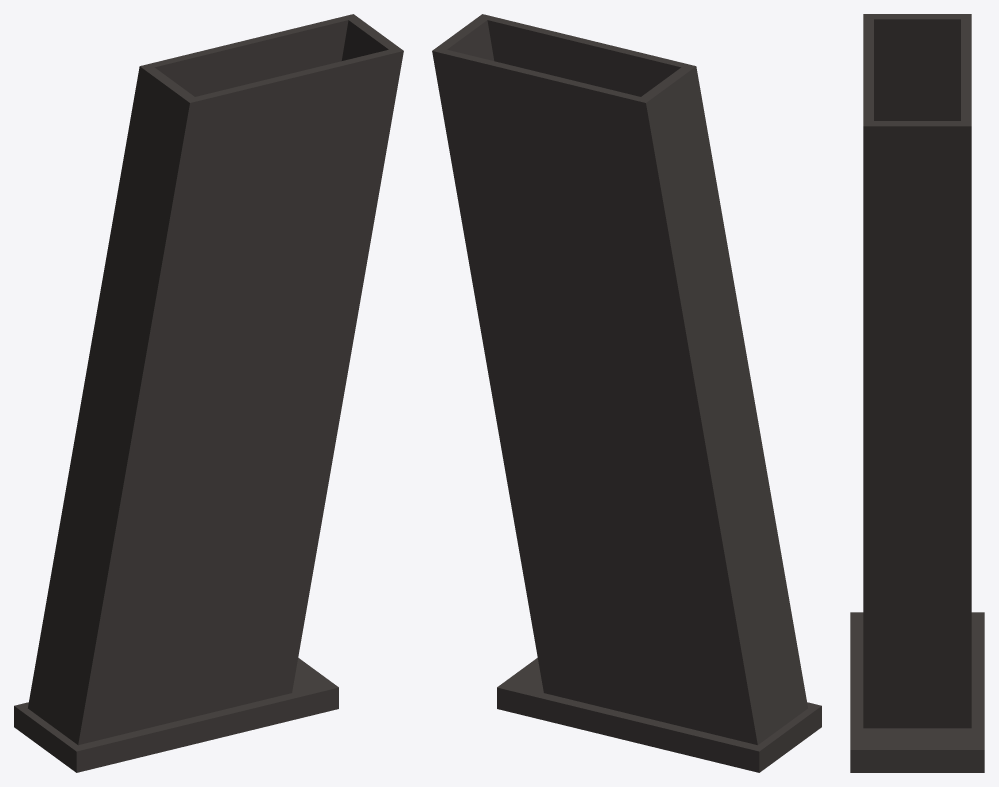
File: Pistol1_03_5.fbx
The picture shows the model from 3 angles, left to right: view 1: azimuth 30°, elevation 25°; view 2: azimuth 150°, elevation 25°; view 3: azimuth 270°, elevation 25°; orthographic projection. The views are drawn at different scales.
Parts seen in each view (by area): view 1: Pistol1_03_5; view 2: Pistol1_03_5; view 3: Pistol1_03_5.
Part boxes in pixels (<box>): Pistol1_03_5: <box>14,14,403,772</box>; Pistol1_03_5: <box>432,14,821,772</box>; Pistol1_03_5: <box>850,14,984,772</box>.
Size of the model in its own units: 0.0725 by 0.1321 by 0.0235.
